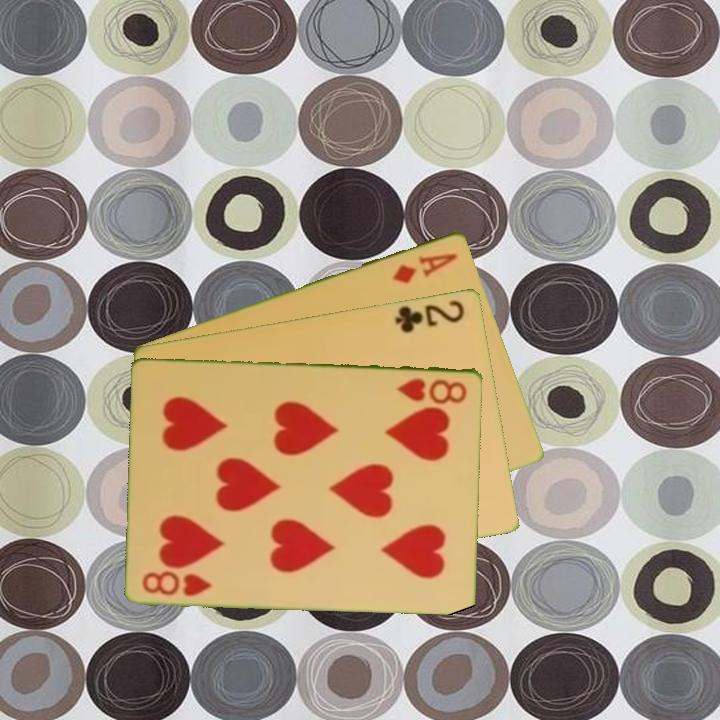2c: (391, 296, 468, 336)
8h: (139, 567, 215, 599), (393, 374, 470, 405)
Ad: (389, 249, 461, 287)
